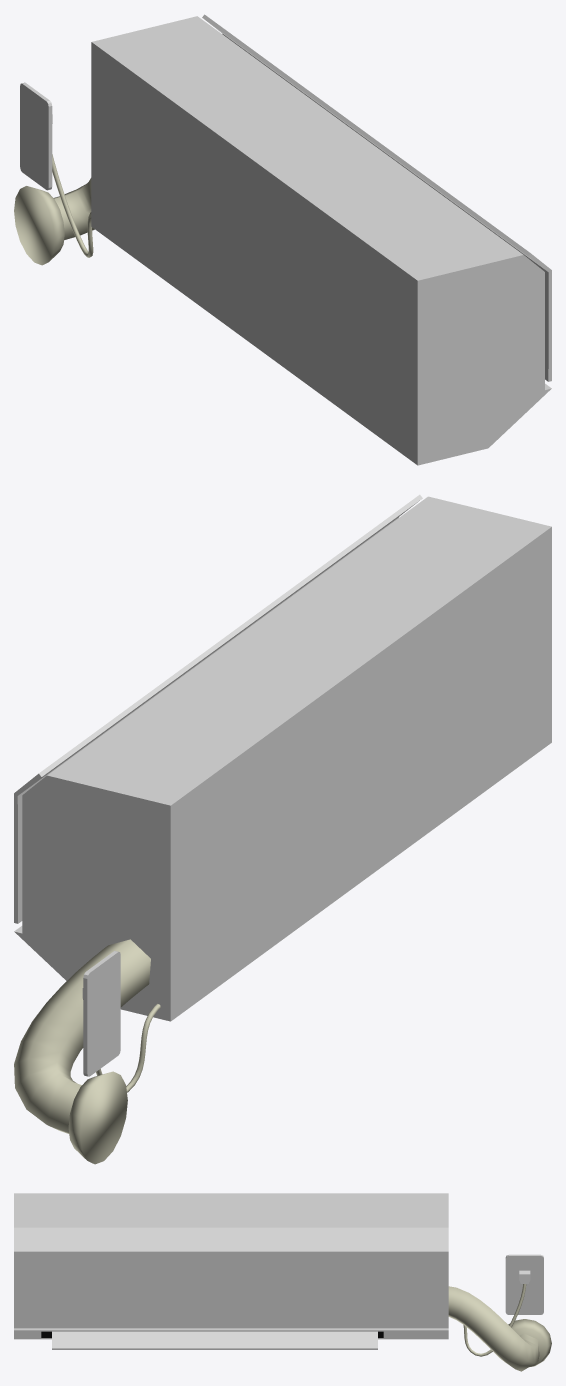
The model's file is aircon.glb.
The picture shows the model from 3 angles, top to bottom: view 1: azimuth 30°, elevation 25°; view 2: azimuth 150°, elevation 25°; view 3: azimuth 270°, elevation 25°; orthographic projection. The views are drawn at different scales.
Parts seen in each view (by area): view 1: Cube, Cube.001, Cylinder, Cube.004, BézierCurve, BézierCurve.001; view 2: Cube, BézierCurve, Cube.001, Cylinder, Cube.004; view 3: Cube.001, Cube, Cube.002, BézierCurve, Cube.004, Cylinder, BézierCurve.001.
Boxes of the visible parts, x1,y1,x2,y2 form: Cube: [91, 16, 551, 465]; Cube.001: [202, 14, 551, 381]; Cylinder: [14, 186, 64, 265]; Cube.004: [20, 82, 52, 190]; BézierCurve: [54, 178, 94, 240]; BézierCurve.001: [52, 154, 93, 257]; Cube: [14, 496, 551, 1021]; BézierCurve: [14, 939, 150, 1133]; Cube.001: [14, 494, 422, 923]; Cylinder: [68, 1071, 127, 1164]; Cube.004: [83, 951, 120, 1076]; Cube.001: [14, 1230, 448, 1325]; Cube: [14, 1193, 448, 1339]; Cube.002: [52, 1331, 377, 1349]; BézierCurve: [448, 1286, 539, 1371]; Cube.004: [505, 1254, 543, 1314]; Cylinder: [508, 1319, 551, 1367]; BézierCurve.001: [463, 1284, 526, 1356].
Size of the model in its own units: 0.19 by 0.355 by 0.99.
